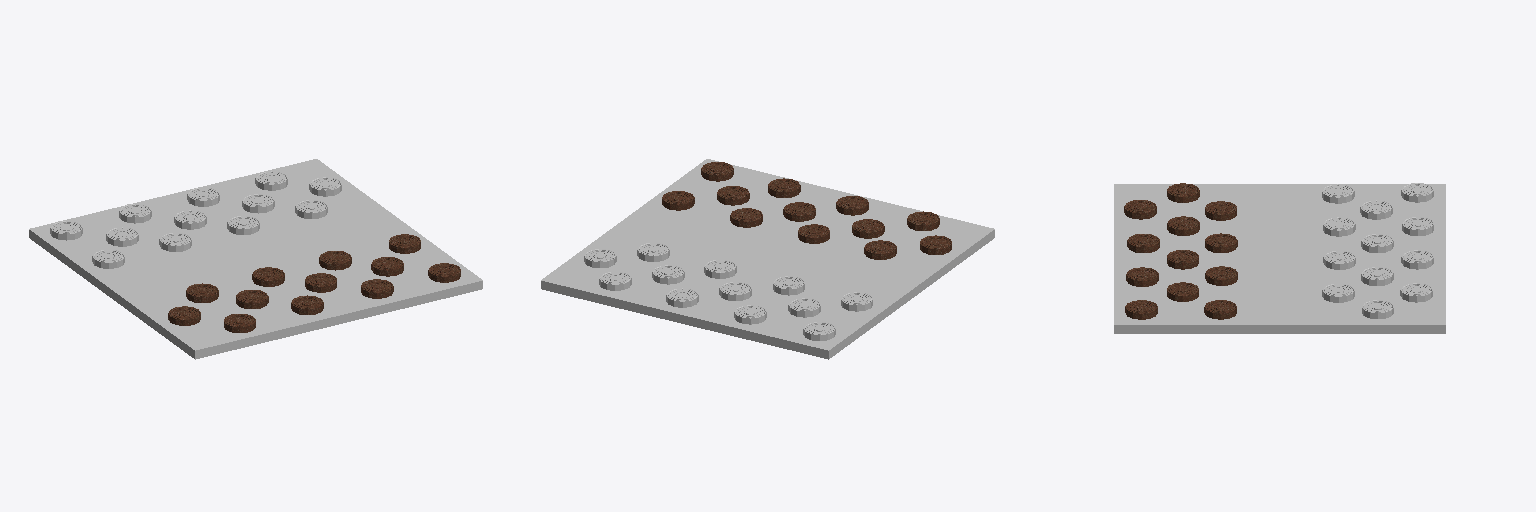
3 renders of one model, left to right at view 1: azimuth 30°, elevation 25°; view 2: azimuth 150°, elevation 25°; view 3: azimuth 270°, elevation 25°, orthographic.
Visible parts, largest first — view 1: checkersBoard, brown_checker08, brown_checker11, yellow_checker09, yellow_checker04, yellow_checker05, brown_checker02, yellow_checker11, yellow_checker12, yellow_checker03, yellow_checker06, yellow_checker02 (+13 smaller); view 2: checkersBoard, yellow_checker11, yellow_checker03, brown_checker10, yellow_checker12, yellow_checker04, yellow_checker06, brown_checker12, brown_checker03, brown_checker09, yellow_checker08, yellow_checker07 (+13 smaller); view 3: checkersBoard, brown_checker08, brown_checker04, brown_checker09, yellow_checker12, yellow_checker04, yellow_checker03, brown_checker02, brown_checker01, yellow_checker09, yellow_checker11, brown_checker10 (+13 smaller).
Boxes of the visible parts, x1,y1,x2,y2 form: checkersBoard: [29, 159, 482, 359]; brown_checker08: [168, 306, 200, 325]; brown_checker11: [252, 267, 284, 286]; yellow_checker09: [92, 249, 124, 268]; yellow_checker04: [255, 171, 287, 190]; yellow_checker05: [106, 227, 138, 246]; brown_checker02: [361, 279, 393, 298]; yellow_checker11: [227, 215, 259, 234]; yellow_checker12: [295, 199, 327, 218]; yellow_checker03: [187, 187, 219, 206]; yellow_checker06: [174, 210, 206, 229]; yellow_checker02: [119, 204, 151, 223]; checkersBoard: [541, 159, 994, 359]; yellow_checker11: [704, 259, 736, 278]; yellow_checker03: [666, 288, 698, 307]; brown_checker10: [730, 208, 762, 227]; yellow_checker12: [637, 242, 669, 261]; yellow_checker04: [599, 271, 631, 290]; yellow_checker06: [719, 281, 751, 300]; brown_checker12: [864, 240, 896, 259]; brown_checker03: [836, 196, 868, 215]; brown_checker09: [662, 191, 694, 210]; yellow_checker08: [584, 248, 616, 267]; yellow_checker07: [652, 265, 684, 284]; checkersBoard: [1114, 184, 1445, 333]; brown_checker08: [1167, 183, 1199, 202]; brown_checker04: [1124, 200, 1156, 219]; brown_checker09: [1204, 300, 1236, 319]; yellow_checker12: [1322, 283, 1354, 302]; yellow_checker04: [1400, 283, 1432, 302]; yellow_checker03: [1401, 250, 1433, 269]; brown_checker02: [1126, 267, 1158, 286]; brown_checker01: [1125, 300, 1157, 319]; yellow_checker09: [1322, 184, 1354, 203]; yellow_checker11: [1323, 250, 1355, 269]; brown_checker10: [1205, 266, 1237, 285].
Bounding box in the file's own units: 0.2952 × 0.0147 × 0.2952.
3 materials, 1 textured.